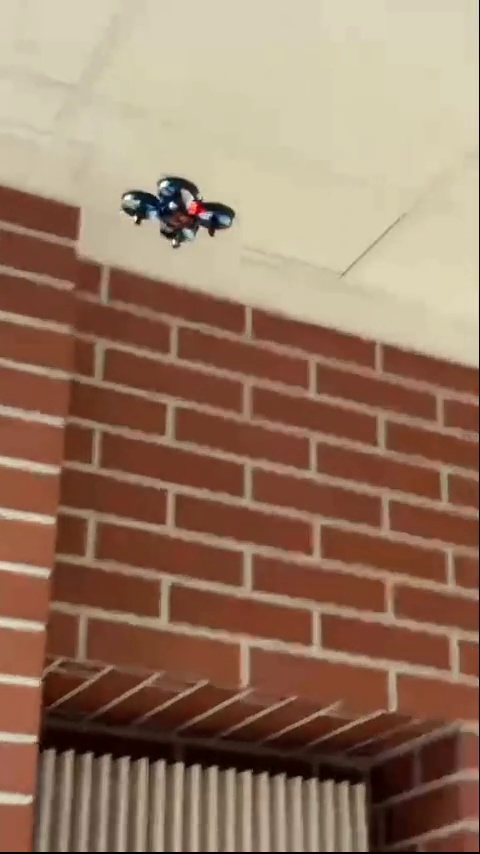drone: (119, 171, 230, 255)
